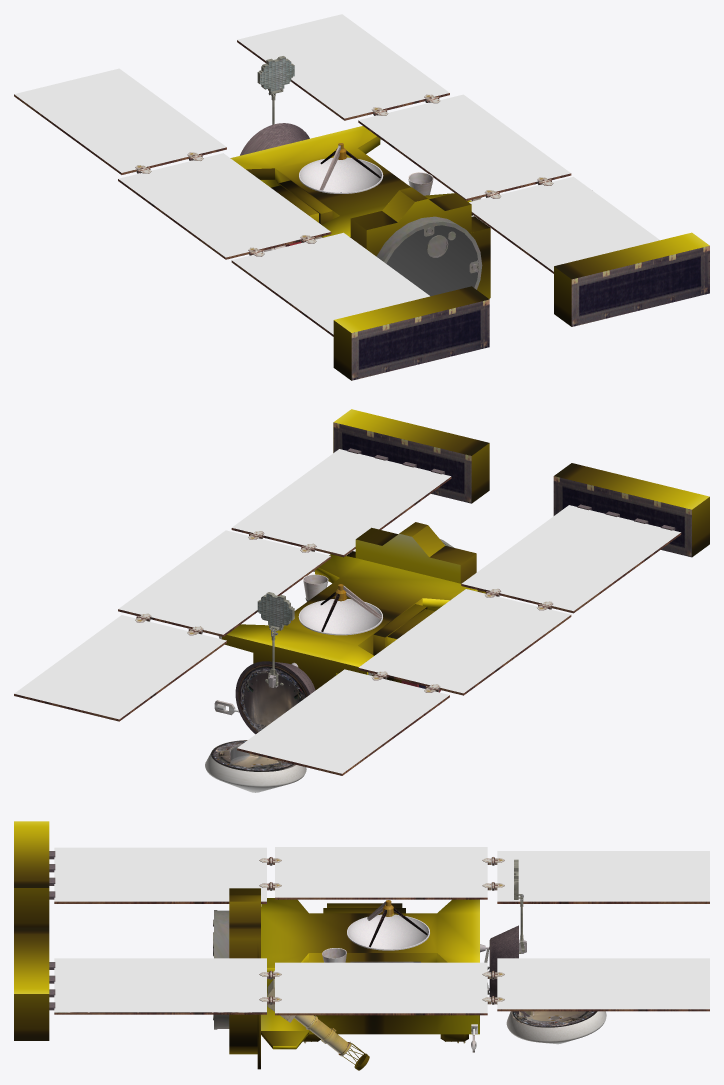
Rendered from Stardust.glb.
The picture shows the model from 3 angles, top to bottom: view 1: azimuth 30°, elevation 25°; view 2: azimuth 150°, elevation 25°; view 3: azimuth 270°, elevation 25°; orthographic projection.
Visible parts, largest first — view 1: shiny_panels, Stardust_tex_01, gold_foil2, gold_foil, foil_silver, Stardust_tex_03, Stardust_tex_02, Stardust_tex_01_c, Stardust_tex_02_c2; view 2: shiny_panels, Stardust_tex_01, gold_foil, gold_foil2, Stardust_tex_03_c, Stardust_tex_03, Stardust_tex_01_c2, Stardust_tex_03_c2, Stardust_tex_02_c2, Stardust_tex_01_c; view 3: shiny_panels, gold_foil, gold_foil2, Stardust_tex_01, Stardust_tex_02, Stardust_tex_03, Stardust_tex_01_c2, Stardust_tex_01_c, Stardust_tex_03_c2, Stardust_tex_02_c2.
Boxes of the visible parts, x1,y1,x2,y2 form: shiny_panels: [14, 14, 659, 334]; Stardust_tex_01: [14, 40, 709, 380]; gold_foil2: [271, 180, 709, 380]; gold_foil: [230, 126, 490, 298]; foil_silver: [386, 225, 477, 296]; Stardust_tex_03: [299, 143, 383, 193]; Stardust_tex_02: [285, 216, 482, 289]; Stardust_tex_01_c: [240, 123, 309, 155]; Stardust_tex_02_c2: [257, 56, 294, 124]; shiny_panels: [14, 449, 680, 773]; Stardust_tex_01: [14, 422, 691, 775]; gold_foil: [222, 533, 477, 690]; gold_foil2: [333, 409, 709, 655]; Stardust_tex_03_c: [238, 664, 307, 732]; Stardust_tex_03: [298, 584, 382, 635]; Stardust_tex_01_c2: [205, 753, 306, 792]; Stardust_tex_03_c2: [211, 740, 295, 771]; Stardust_tex_02_c2: [257, 592, 294, 687]; Stardust_tex_01_c: [235, 661, 315, 734]; shiny_panels: [54, 847, 709, 1013]; gold_foil: [261, 898, 479, 1049]; gold_foil2: [14, 821, 468, 1070]; Stardust_tex_01: [49, 851, 709, 1066]; Stardust_tex_02: [54, 910, 489, 1056]; Stardust_tex_03: [347, 900, 429, 950]; Stardust_tex_01_c2: [506, 1011, 606, 1044]; Stardust_tex_01_c: [489, 925, 518, 1014]; Stardust_tex_03_c2: [511, 1011, 597, 1027]; Stardust_tex_02_c2: [514, 859, 526, 953].
Bounding box in the file's own units: 2.94 × 1.45 × 5.01.
Materials: 7 (6 with a texture image).
